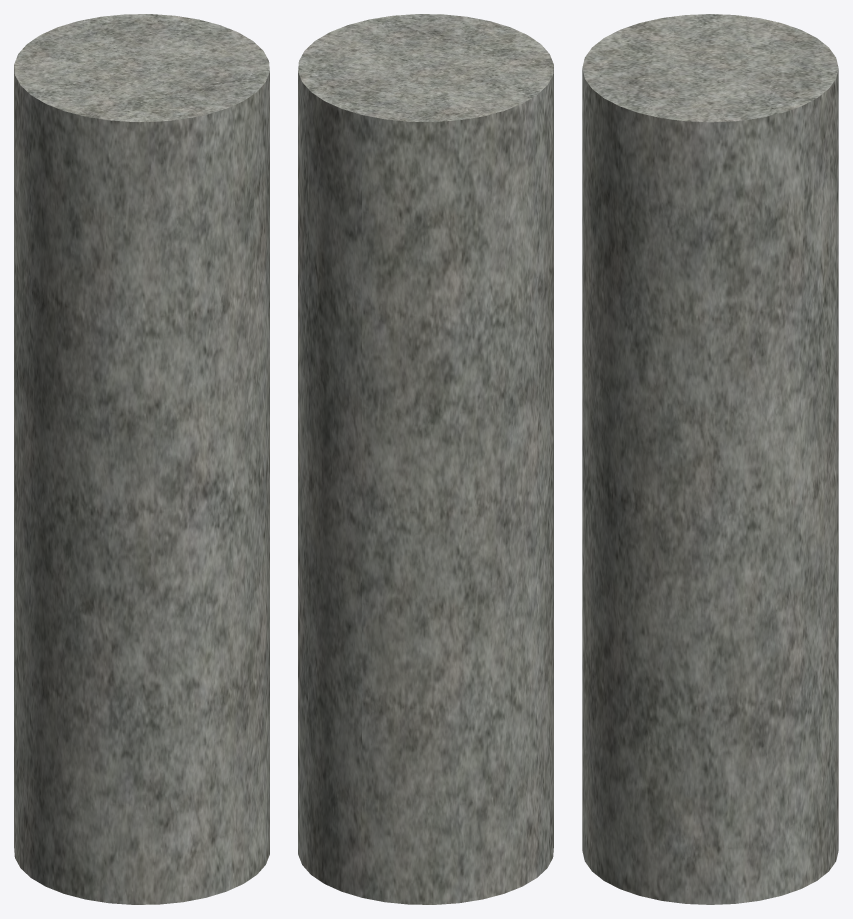
The model's file is SimplePillar-rough.glb.
The picture shows the model from 3 angles, left to right: view 1: azimuth 30°, elevation 25°; view 2: azimuth 150°, elevation 25°; view 3: azimuth 270°, elevation 25°; orthographic projection.
Visible parts, largest first — view 1: Pillar; view 2: Pillar; view 3: Pillar.
Boxes of the visible parts, x1,y1,x2,y2 form: Pillar: (14, 14, 269, 904); Pillar: (298, 14, 553, 904); Pillar: (582, 14, 838, 904).
Bounding box in the file's own units: 0.8903 × 3 × 0.8903.
Materials: 1 (1 with a texture image).
